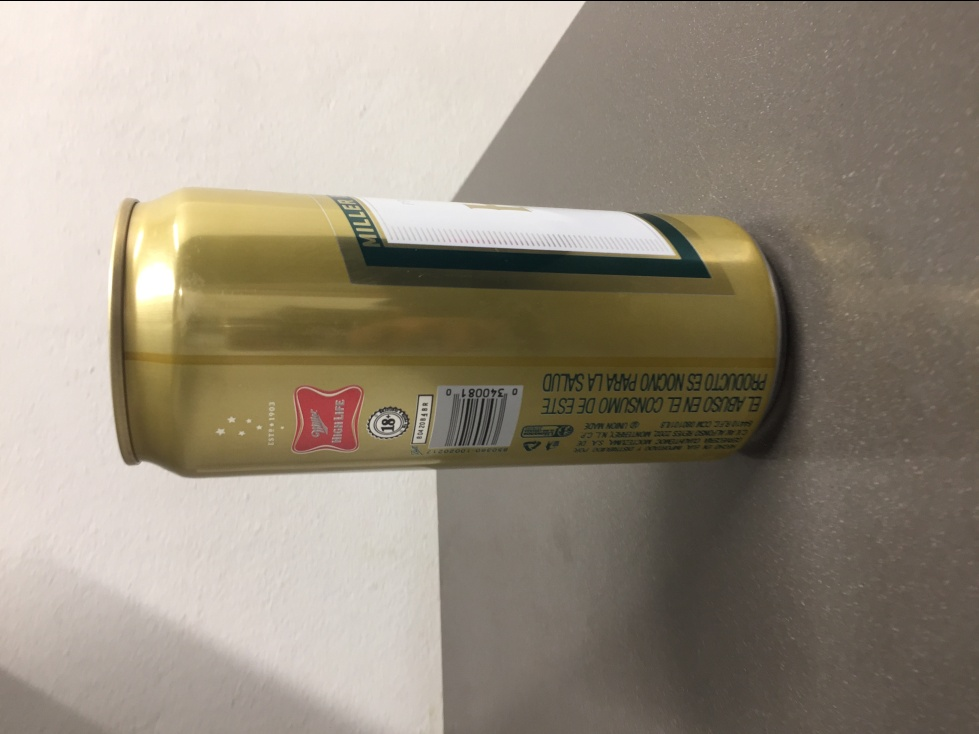miller: (100, 179, 793, 480)
